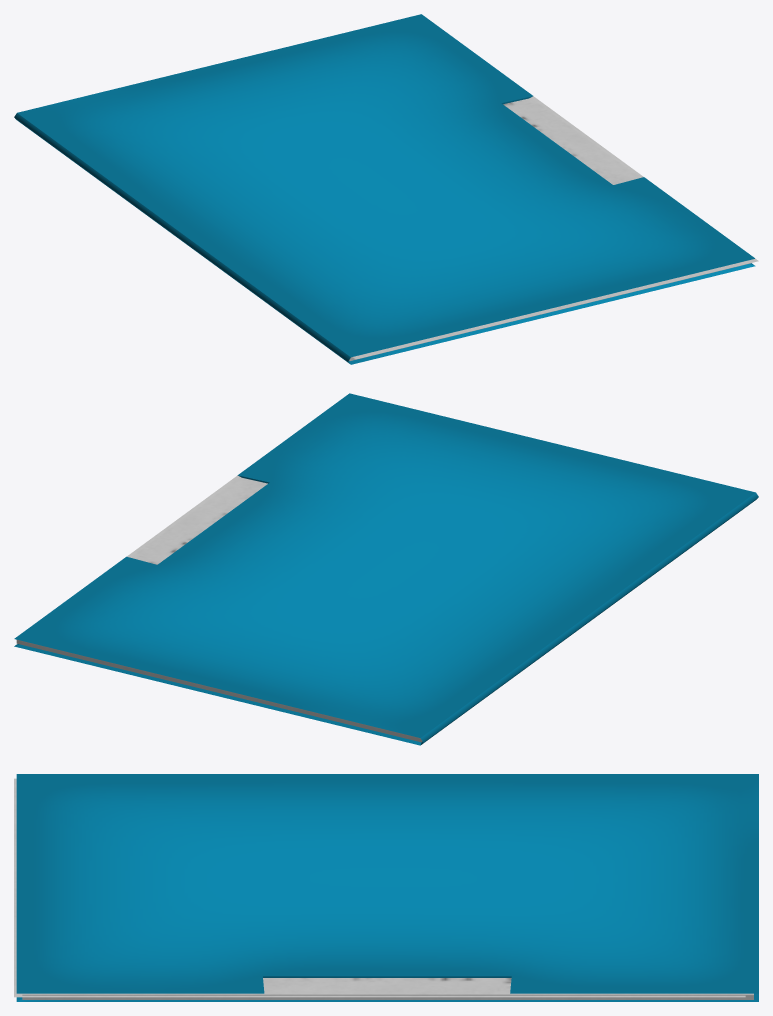
The model's file is Folder.fbx.
The picture shows the model from 3 angles, top to bottom: view 1: azimuth 30°, elevation 25°; view 2: azimuth 150°, elevation 25°; view 3: azimuth 270°, elevation 25°; orthographic projection. The views are drawn at different scales.
Visible parts, largest first — view 1: Folder; view 2: Folder; view 3: Folder.
Boxes of the visible parts, x1,y1,x2,y2 form: Folder: [14, 14, 758, 364]; Folder: [14, 393, 758, 745]; Folder: [14, 774, 758, 1001].
Size of the model in its own units: 21.34 by 0.3723 by 30.24.
